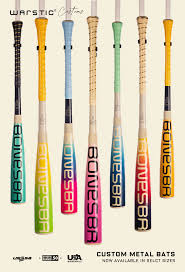baseball bat: (82, 14, 105, 247), (33, 15, 55, 235), (55, 19, 79, 214), (133, 14, 154, 232), (9, 1, 28, 205), (108, 20, 128, 211), (159, 18, 175, 201)
